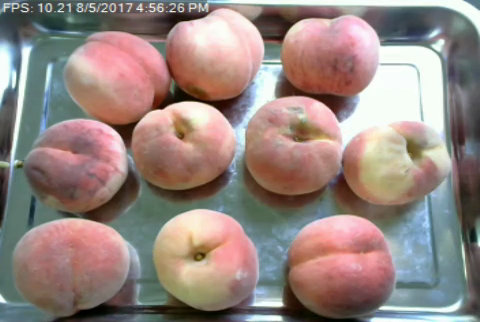Peach: (16, 216, 132, 314), (287, 215, 393, 319), (154, 210, 257, 310), (65, 29, 168, 126), (244, 94, 342, 195), (26, 118, 130, 213), (130, 99, 234, 190), (165, 7, 264, 102), (341, 120, 447, 205), (280, 14, 379, 99)
